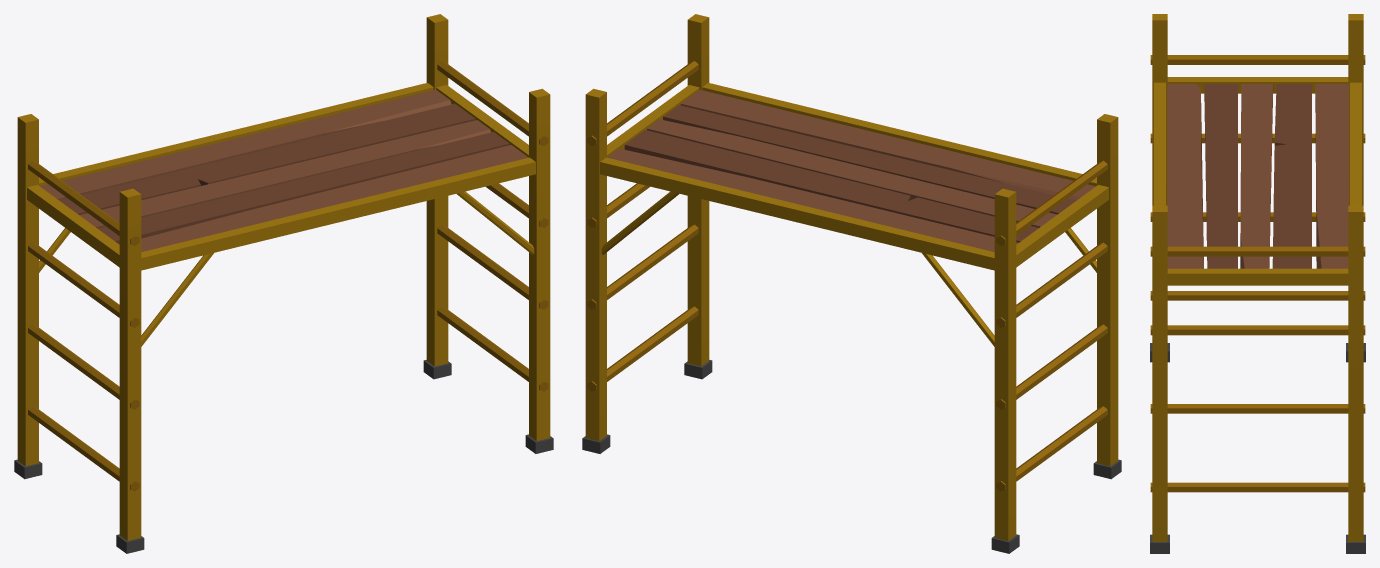
Rendered from Scaffolding_01.fbx.
3 views of the same model, side by side, from view 1: azimuth 30°, elevation 25°; view 2: azimuth 150°, elevation 25°; view 3: azimuth 270°, elevation 25° (orthographic). The views are drawn at different scales.
Parts seen in each view (by area): view 1: Scaffolding_01; view 2: Scaffolding_01; view 3: Scaffolding_01.
Boxes of the visible parts, x1,y1,x2,y2 form: Scaffolding_01: (14, 14, 553, 553); Scaffolding_01: (582, 14, 1121, 553); Scaffolding_01: (1150, 14, 1365, 553).
Bounding box in the file's own units: 315 × 250 × 143.
